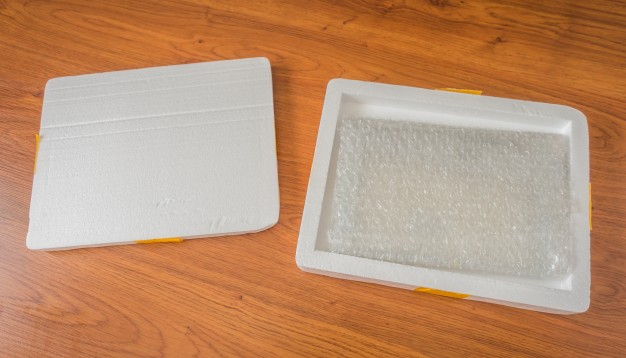Foam Box: (19, 52, 283, 254)
